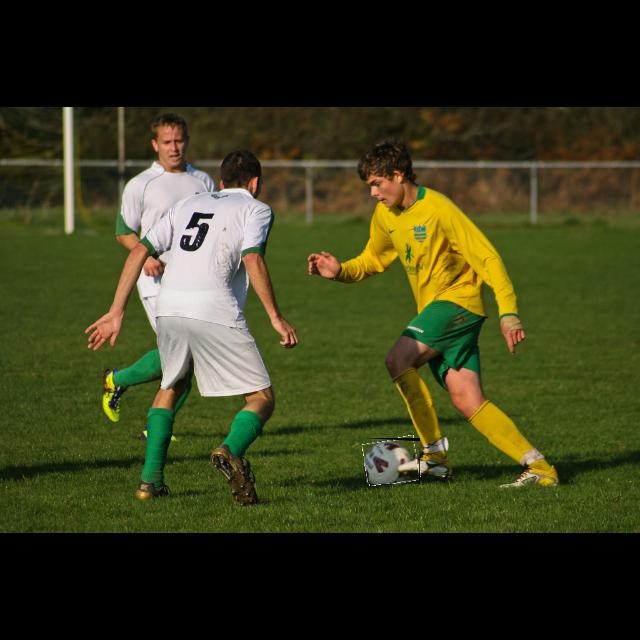Football: (364, 438, 420, 484)
